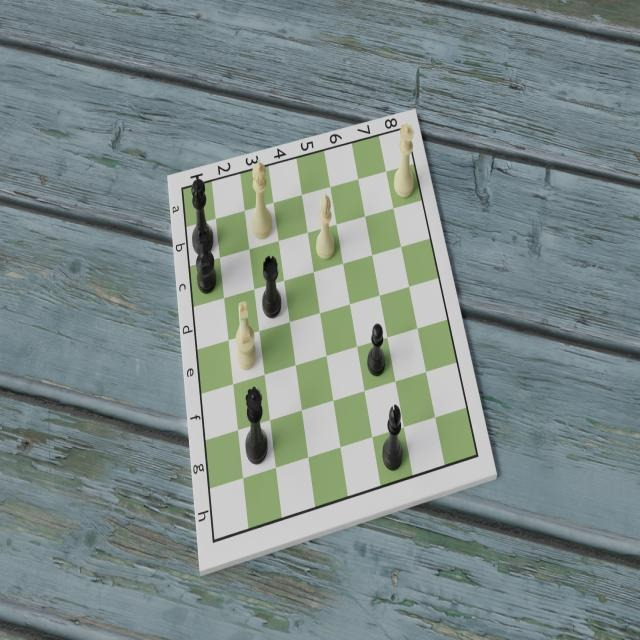black-bishop: (381, 403, 407, 476)
black-king: (188, 172, 216, 256)
black-knight: (193, 219, 219, 301)
black-queen: (242, 383, 269, 468)
black-rook: (259, 254, 284, 322)
white-bishop: (313, 192, 339, 268)
white-king: (249, 156, 275, 244)
white-knight: (233, 296, 258, 373)
white-queen: (390, 121, 417, 203)
